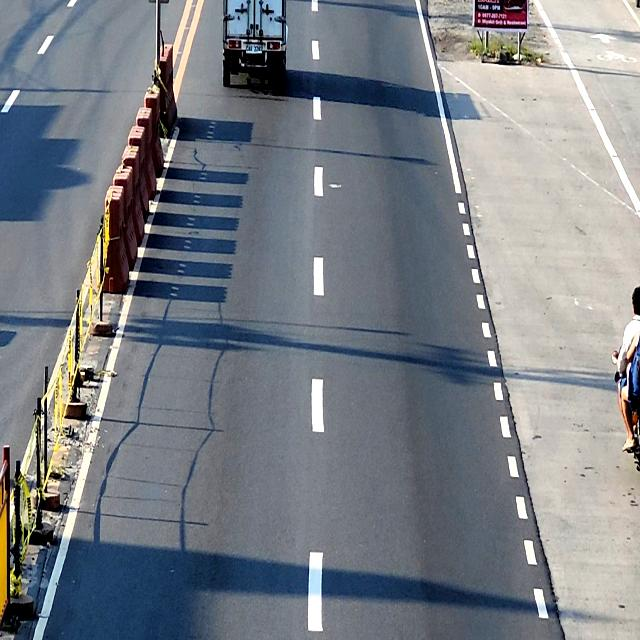License-Plate: (246, 43, 263, 54)
Truck: (222, 0, 286, 88)
